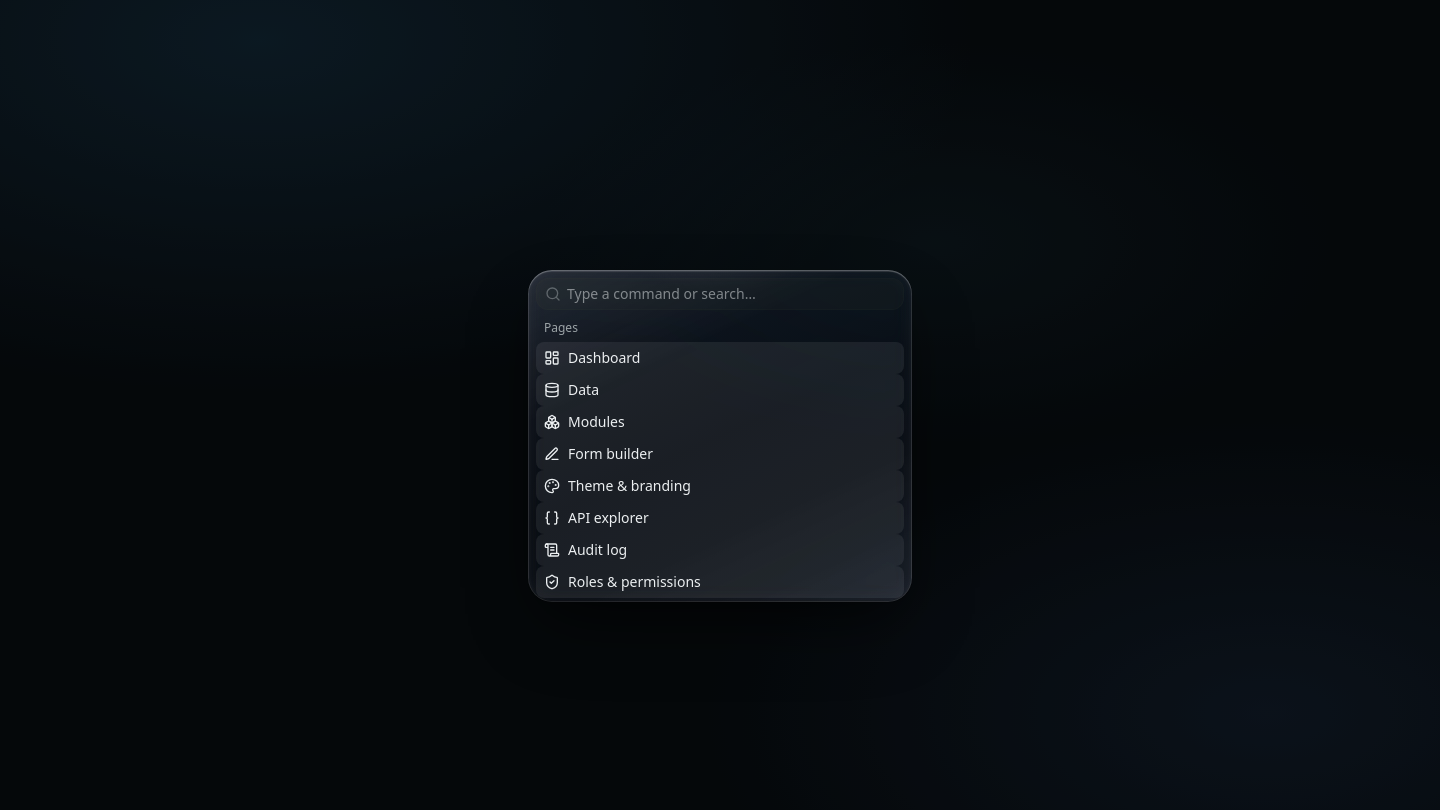
Test: CommandPalette › lists pages, actions and modules; filters by query
This screenshot has width=1440, height=810.
Type "tickets" into the dropdown with placeholder "Type a command or search…" at (732, 294), box [561,284,903,304]
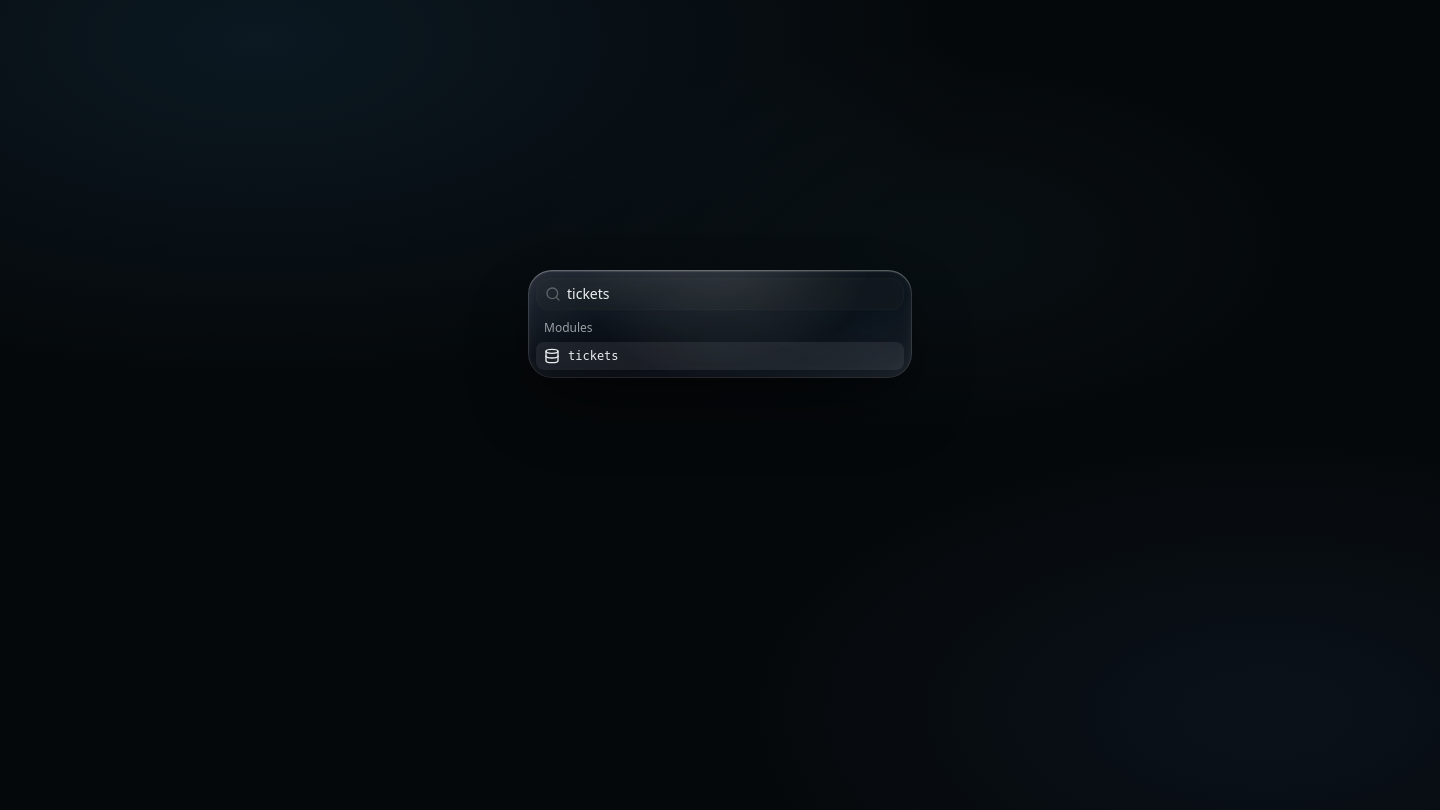
Now the text "tickets" is shown, box [568,348,619,364]
